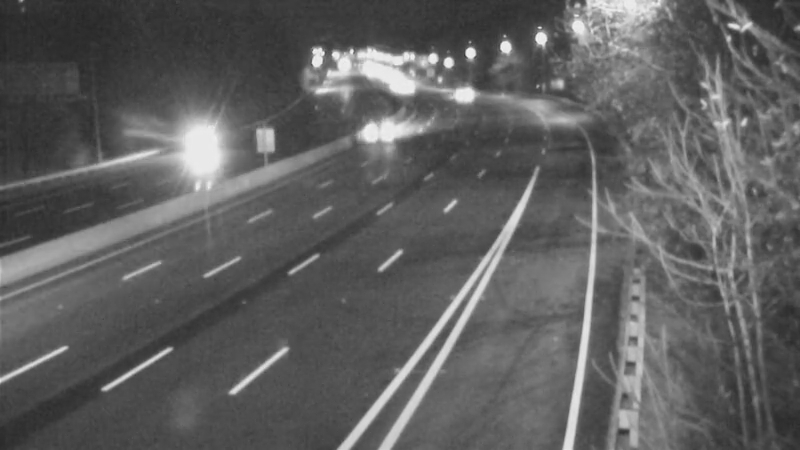vehicle: (435, 68, 485, 118), (356, 106, 406, 156), (176, 124, 226, 174)
